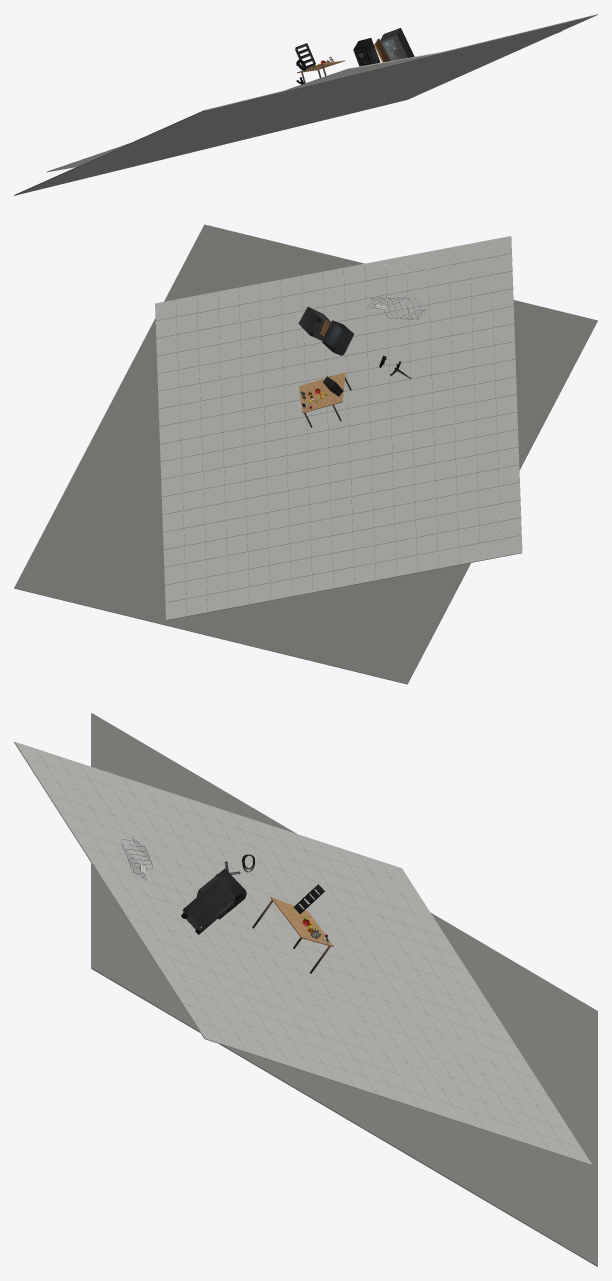
File: viga.glb
3 renders of one model, top to bottom at view 1: azimuth 30°, elevation 25°; view 2: azimuth 150°, elevation 25°; view 3: azimuth 270°, elevation 25°, orthographic. The views are drawn at different scales.
Parts seen in each view (by area): view 1: Floor base, black_pc_case_mesh, black_computer_tower_mesh, black_shelving_unit_mesh; view 2: Floor base, Oak tabletop, black_computer_tower_mesh; view 3: Floor base, black_pc_case_mesh, Oak tabletop.
Boxes of the visible parts, left/top/right/bottom form: Floor base: left=14, top=14, right=597, bottom=195; black_pc_case_mesh: left=380, top=28, right=414, bottom=60; black_computer_tower_mesh: left=353, top=38, right=379, bottom=66; black_shelving_unit_mesh: left=295, top=43, right=315, bottom=68; Floor base: left=14, top=224, right=597, bottom=684; Oak tabletop: left=299, top=372, right=345, bottom=413; black_computer_tower_mesh: left=322, top=320, right=354, bottom=355; Floor base: left=91, top=713, right=597, bottom=1266; black_pc_case_mesh: left=181, top=879, right=235, bottom=934; Oak tabletop: left=270, top=897, right=333, bottom=946.
Bounding box in the file's own units: 11.22 × 6.31 × 9.68.
Materials: 334 (327 with a texture image).
